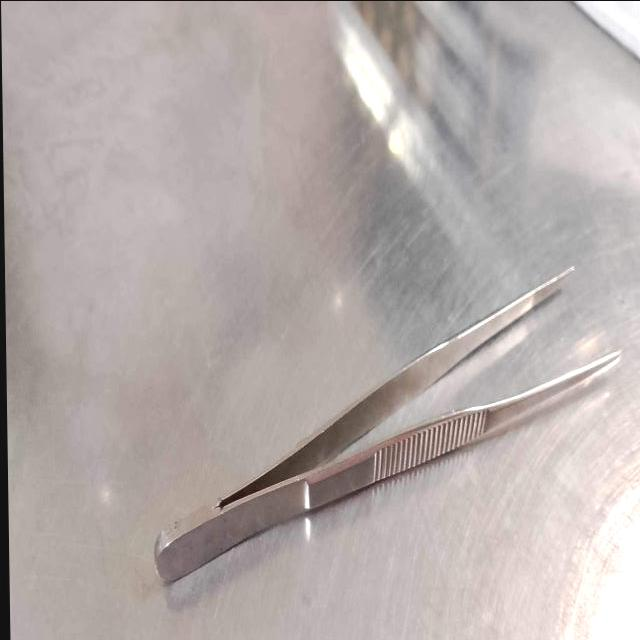Infectious: (151, 262, 622, 584)
Pathological: (3, 0, 639, 639)
